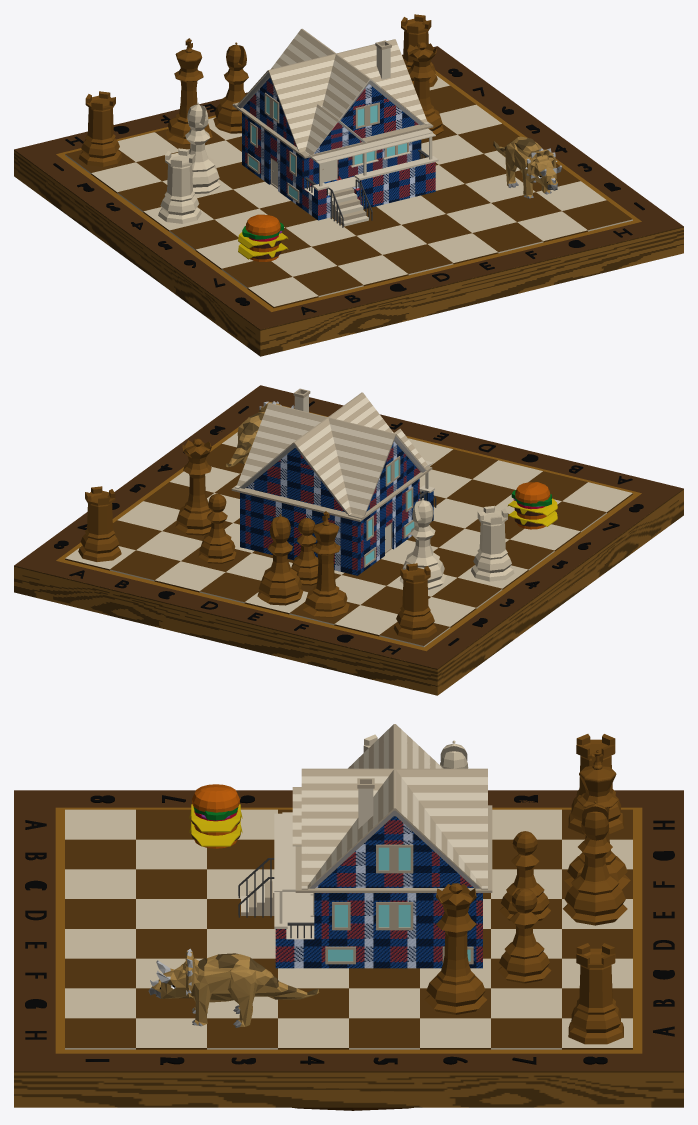
3 views of the same model, one above another, from view 1: azimuth 30°, elevation 25°; view 2: azimuth 150°, elevation 25°; view 3: azimuth 270°, elevation 25° (orthographic). The views are drawn at different scales.
Parts seen in each view (by area): view 1: Cube.002, Cube.171, ANIMAL_Triceratops, OBJRANDOM_HAMBURGER; view 2: Cube.002, Cube.171, OBJRANDOM_HAMBURGER, ANIMAL_Triceratops; view 3: Cube.002, Cube.171, ANIMAL_Triceratops, OBJRANDOM_HAMBURGER.
Boxes of the visible parts, x1,y1,x2,y2 form: Cube.002: [14, 14, 683, 356]; Cube.171: [232, 28, 438, 227]; ANIMAL_Triceratops: [493, 136, 561, 198]; OBJRANDOM_HAMBURGER: [238, 214, 288, 261]; Cube.002: [14, 385, 683, 695]; Cube.171: [231, 388, 436, 575]; OBJRANDOM_HAMBURGER: [507, 482, 557, 529]; ANIMAL_Triceratops: [225, 401, 294, 467]; Cube.002: [14, 734, 683, 1107]; Cube.171: [238, 724, 492, 968]; ANIMAL_Triceratops: [148, 948, 319, 1027]; OBJRANDOM_HAMBURGER: [189, 784, 242, 848].
Size of the model in its own units: 3981 by 1551 by 4012.
31 materials, 3 textured.
